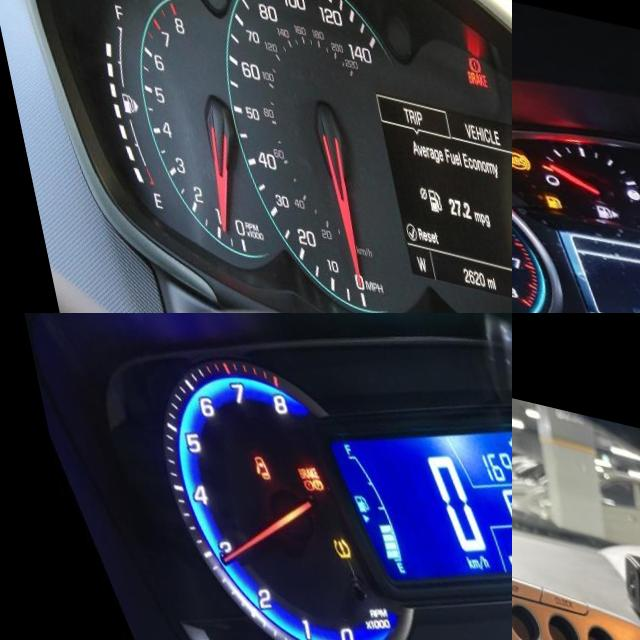Doors: (234, 442, 257, 470)
Low fuel level: (534, 184, 553, 199)
